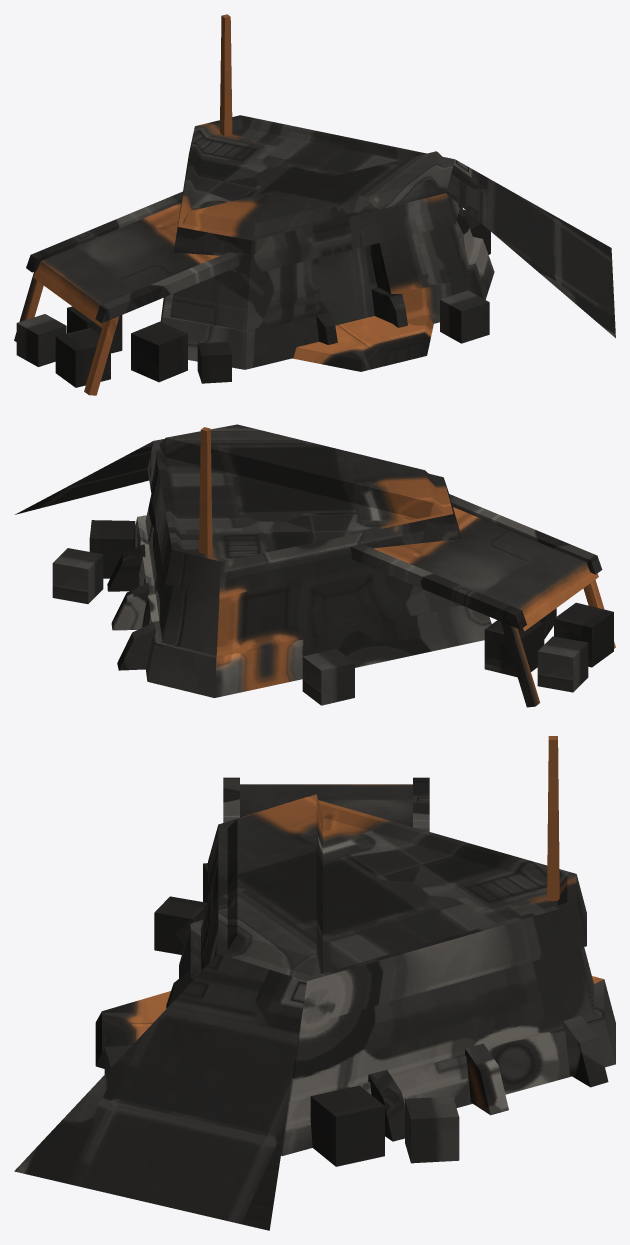
The model's file is ConsignmentTerminal.fbx.
3 renders of one model, top to bottom at view 1: azimuth 30°, elevation 25°; view 2: azimuth 150°, elevation 25°; view 3: azimuth 270°, elevation 25°, orthographic. The views are drawn at different scales.
Parts seen in each view (by area): view 1: pCube15; view 2: pCube15; view 3: pCube15.
Boxes of the visible parts, bbox=[...] form: pCube15: bbox=[14, 14, 615, 395]; pCube15: bbox=[15, 424, 615, 707]; pCube15: bbox=[14, 736, 615, 1230].
Size of the model in its own units: 366 by 145 by 252.
